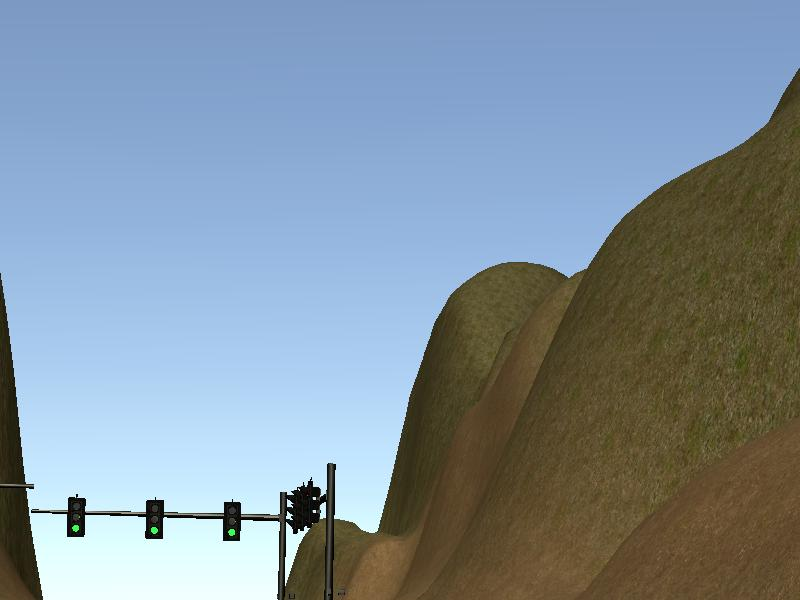Green: (68, 496, 84, 537), (146, 500, 162, 538), (225, 502, 239, 540)
